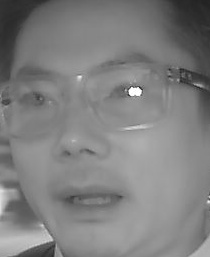eye: (18, 87, 57, 110)
glass: (82, 64, 172, 130), (1, 73, 65, 139)
mouth: (55, 181, 125, 221)
